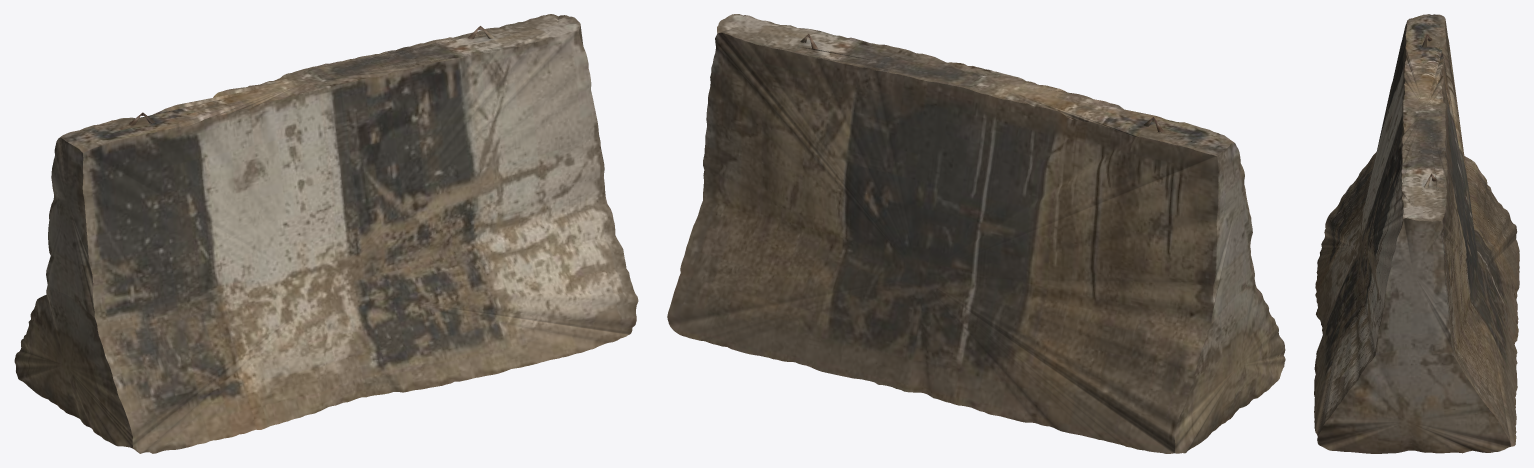
File: ph_roadblock.glb
The picture shows the model from 3 angles, left to right: view 1: azimuth 30°, elevation 25°; view 2: azimuth 150°, elevation 25°; view 3: azimuth 270°, elevation 25°; orthographic projection. The views are drawn at different scales.
Bounding box in the file's own units: 1.55 × 0.8443 × 0.631.
1 material, 1 textured.
